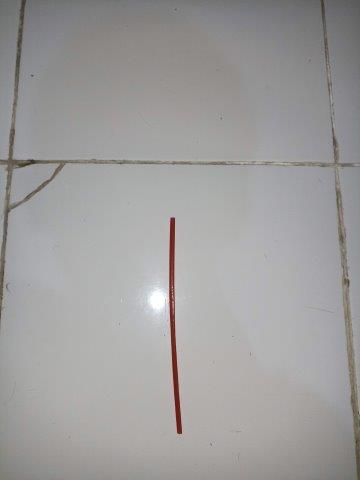sedotan: (169, 217, 182, 433)
